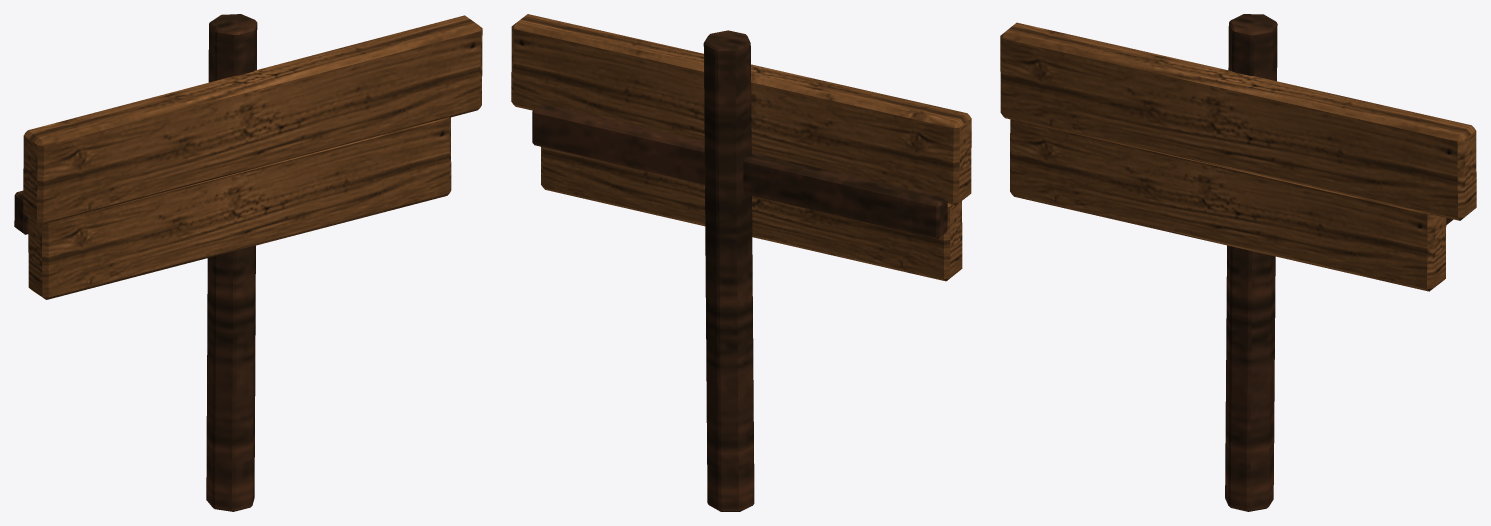
The model's file is sign post.glb.
3 views of the same model, side by side, from view 1: azimuth 30°, elevation 25°; view 2: azimuth 150°, elevation 25°; view 3: azimuth 330°, elevation 25° (orthographic). The views are drawn at different scales.
Parts seen in each view (by area): view 1: casual_sign_crooked_post; view 2: casual_sign_crooked_post; view 3: casual_sign_crooked_post.
Boxes of the visible parts, x1=… form: casual_sign_crooked_post: x1=14, y1=14, x2=482, y2=511; casual_sign_crooked_post: x1=511, y1=14, x2=971, y2=511; casual_sign_crooked_post: x1=1000, y1=14, x2=1476, y2=511.
Size of the model in its own units: 1.55 by 1.56 by 0.252.
2 materials, 2 textured.
